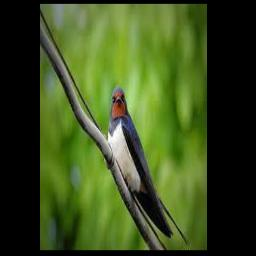Swallow: (107, 86, 189, 246)
